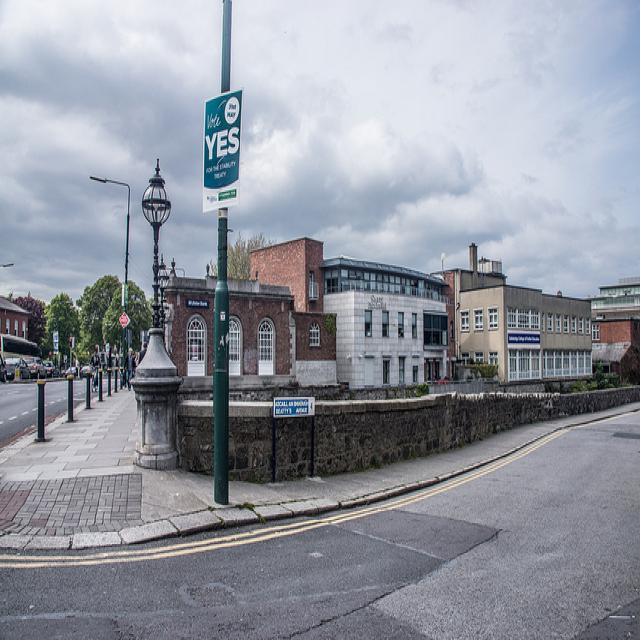Vehicle: (0, 334, 42, 361), (4, 357, 32, 379), (24, 357, 46, 378), (43, 361, 55, 378), (80, 363, 90, 379), (64, 367, 77, 378), (54, 365, 60, 377), (60, 369, 66, 378)
